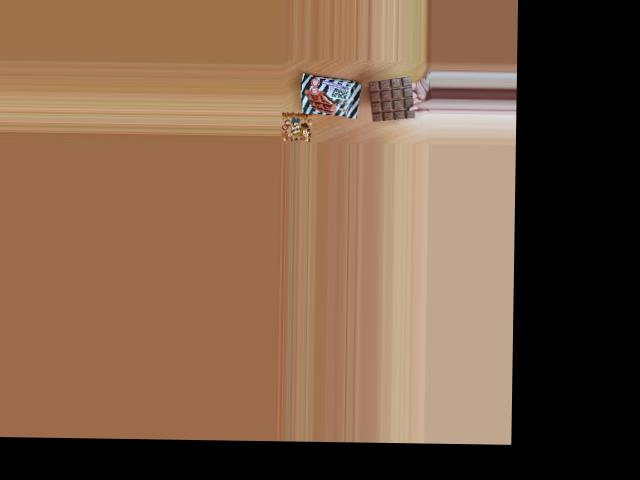chocolate: (297, 74, 363, 116)
